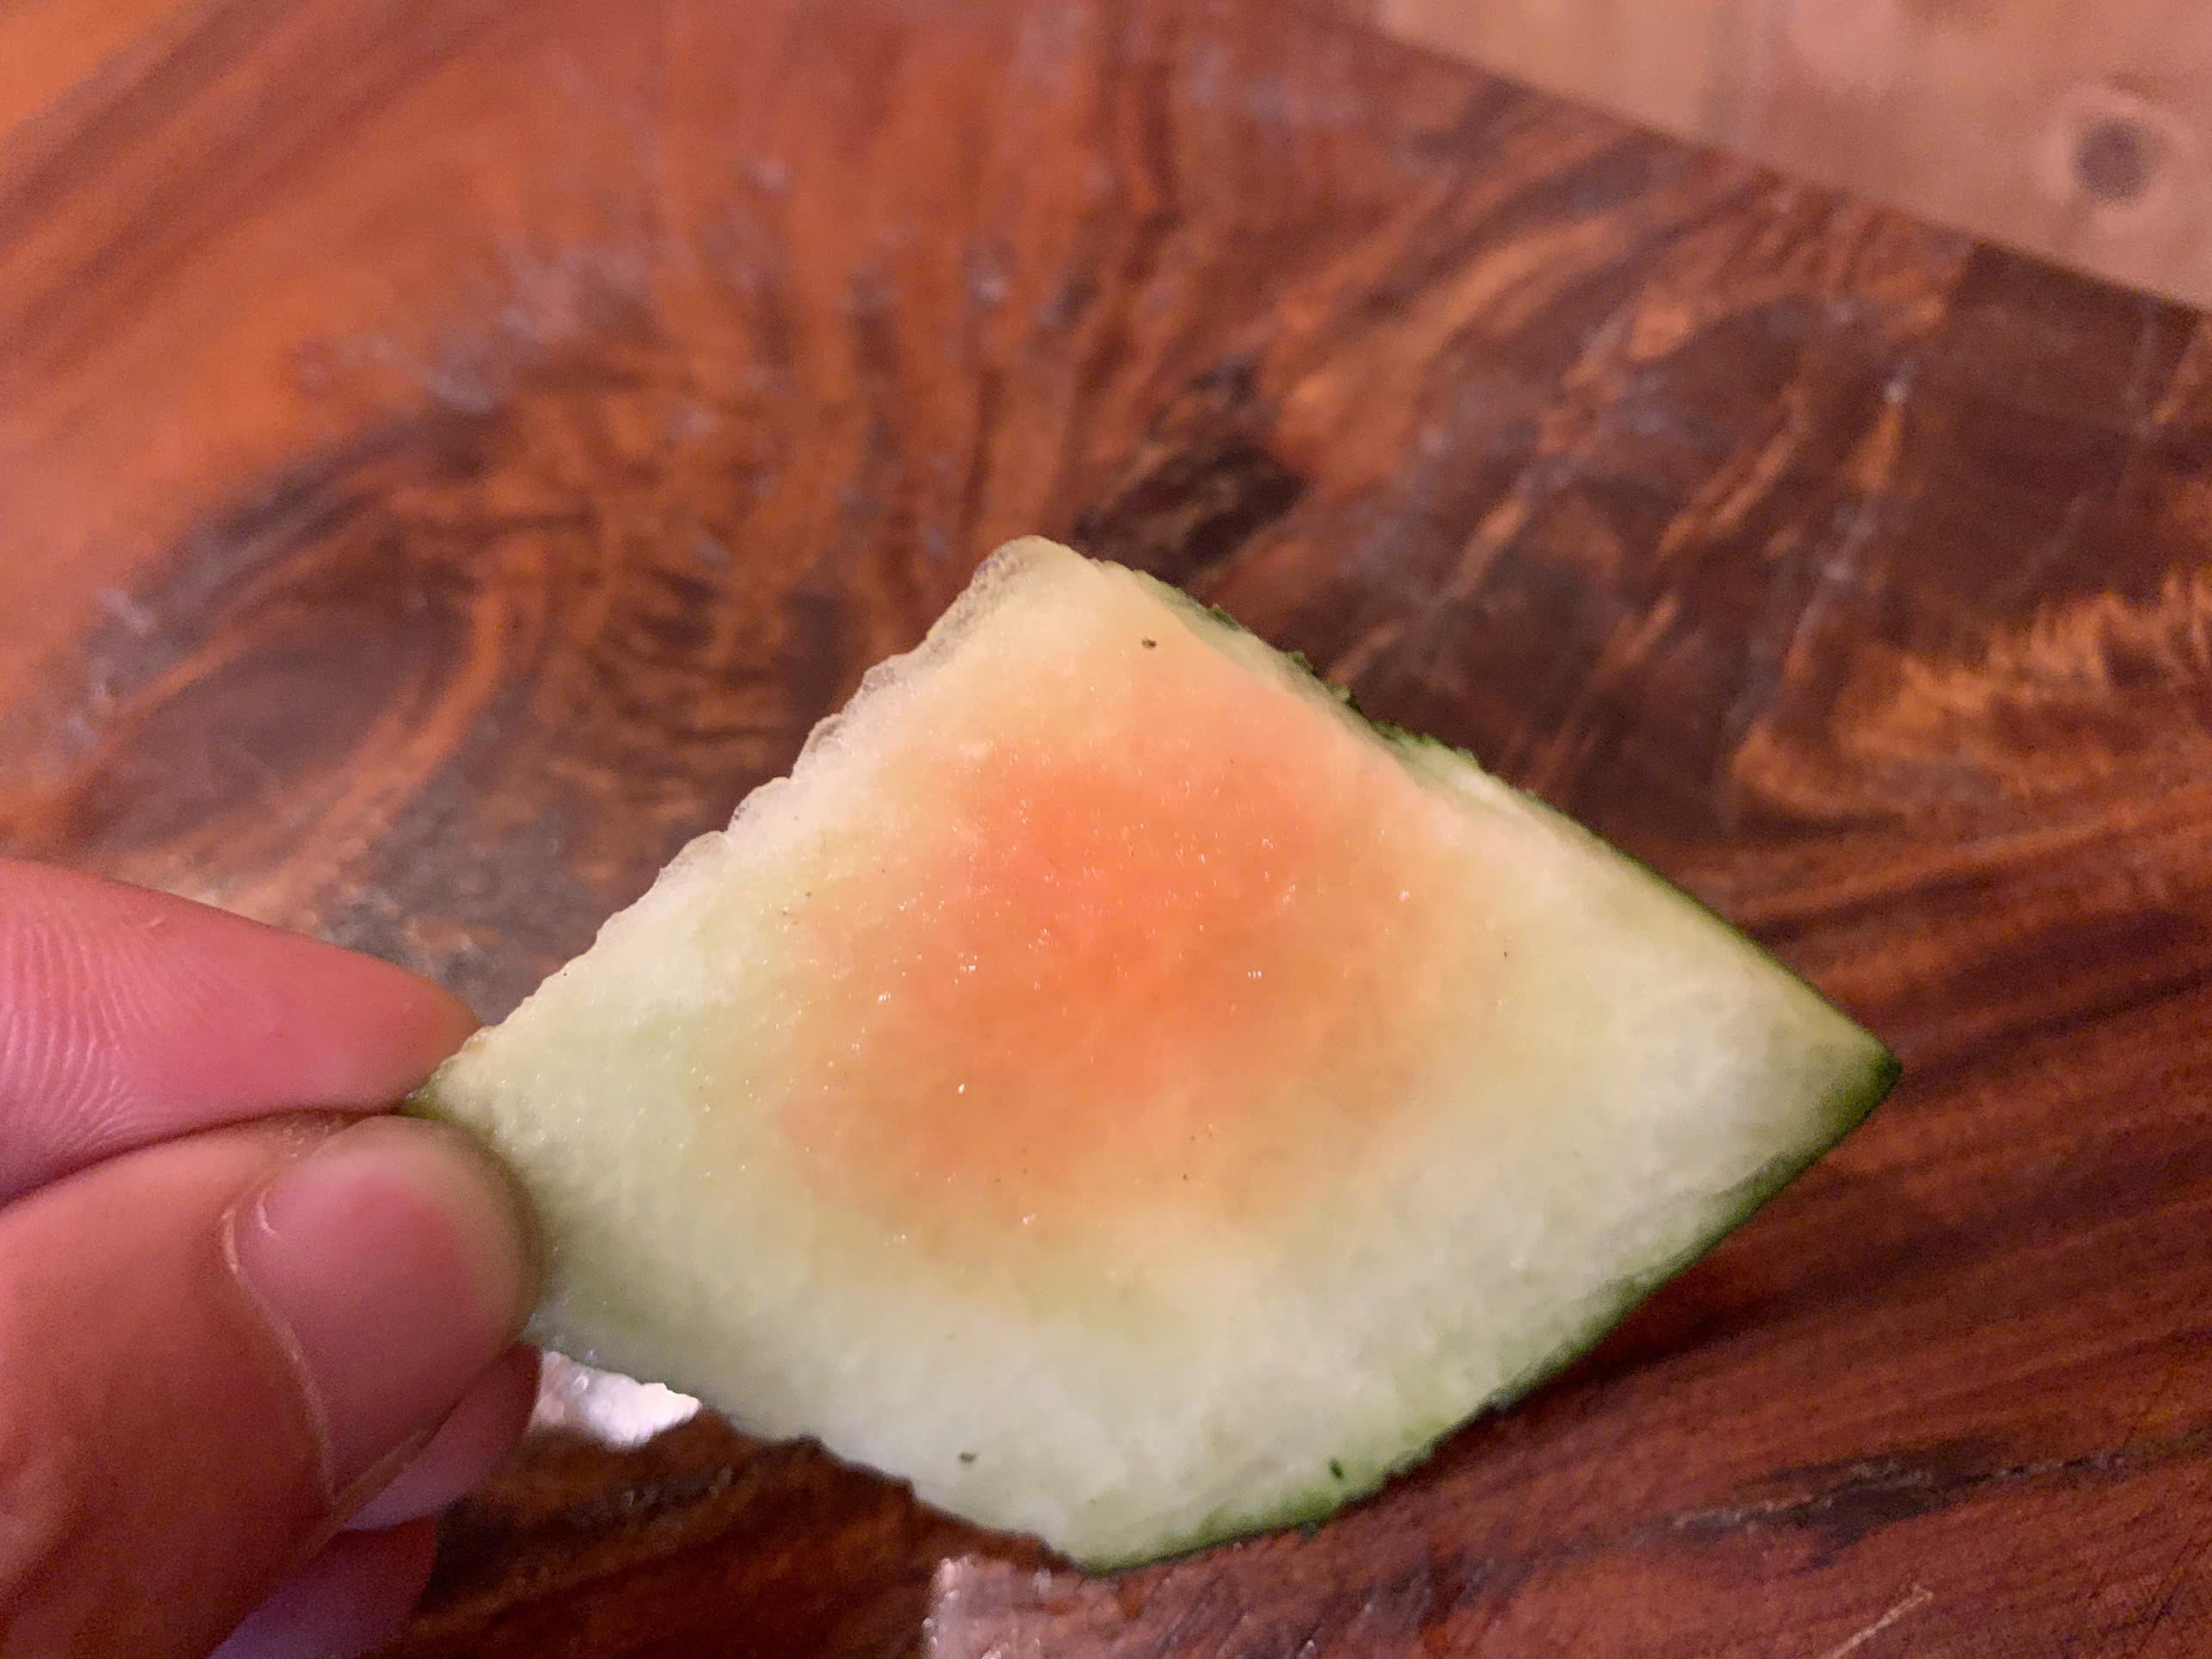Huu co: (413, 537, 1898, 1565)
